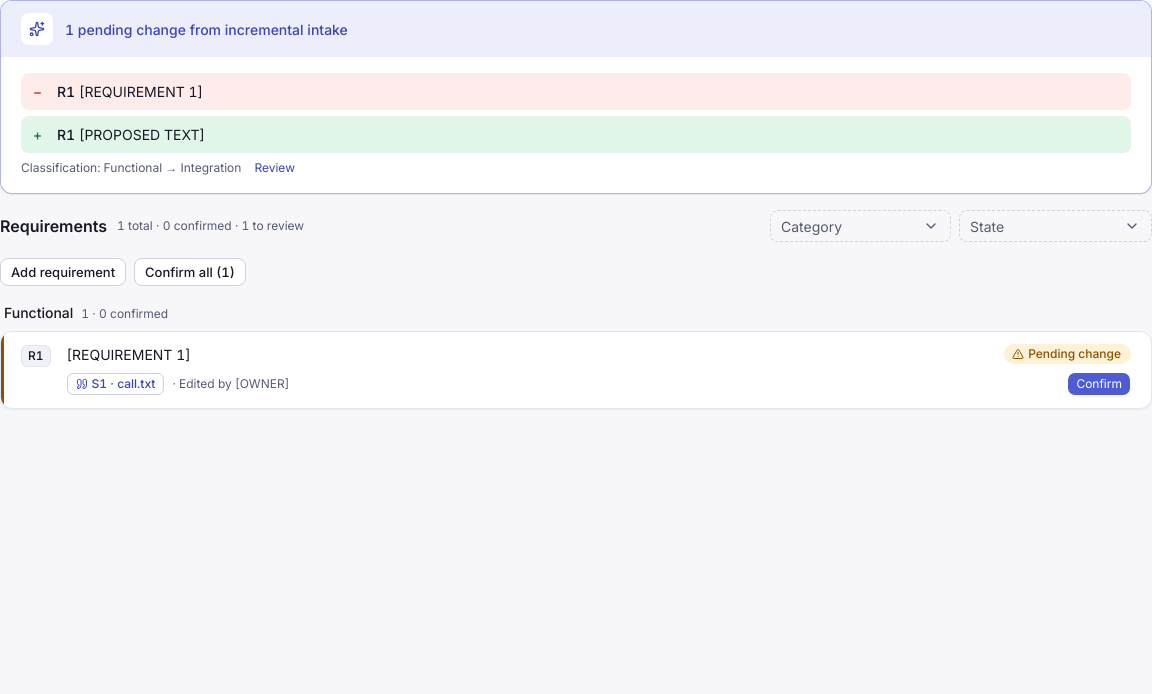
Scenario: a Requirement with a pending change › a 422 from Reject shows the reason under the field
The width and height of the screenshot is (1152, 694).
Click the button "[REQUIREMENT 1]": (129, 354) [67, 344, 988, 365]
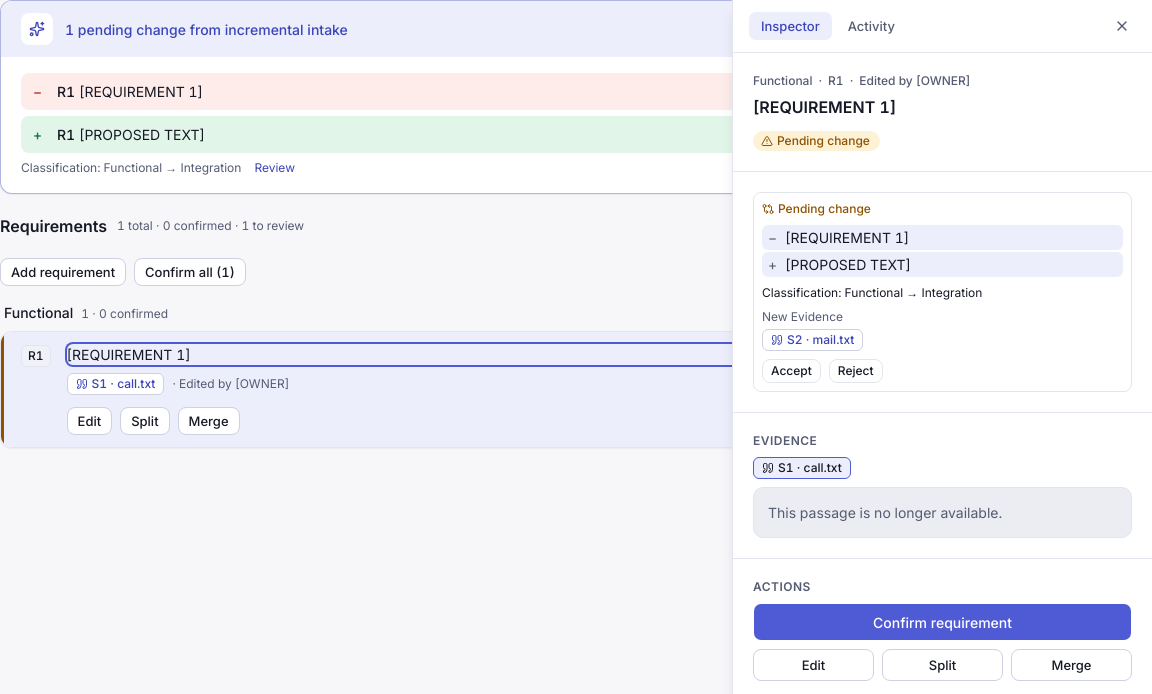
Click the button "Reject": (856, 371) [829, 359, 883, 383]
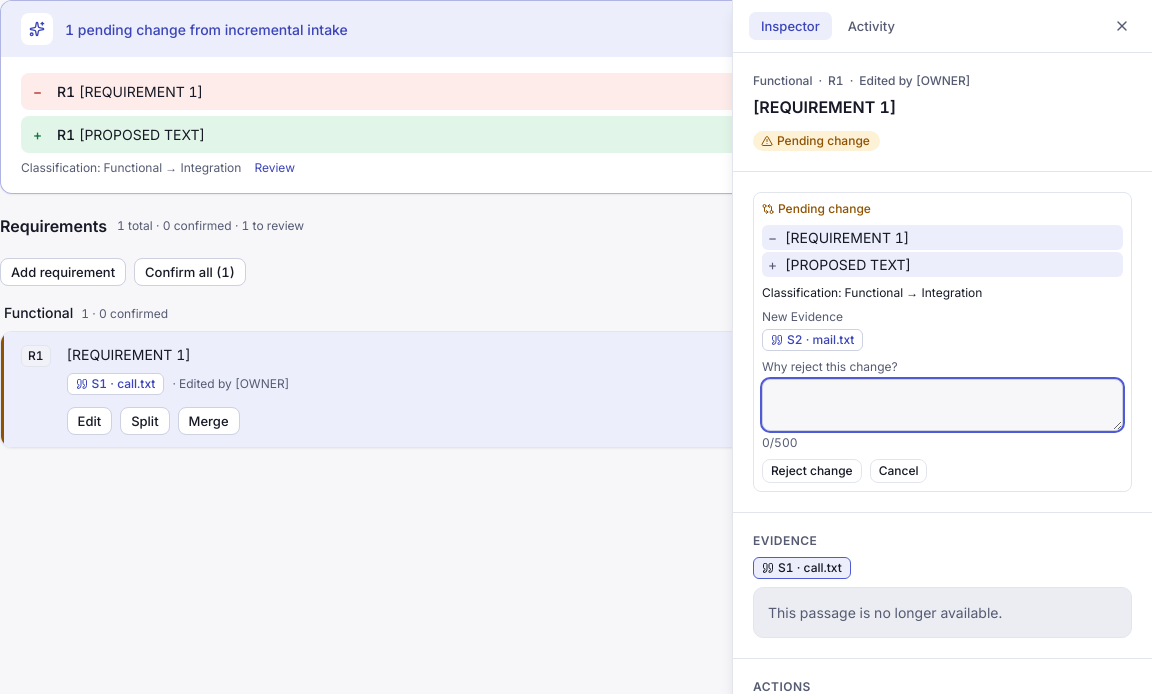
In the text box: (942, 405) [762, 379, 1123, 431], type "Too long, says the API."
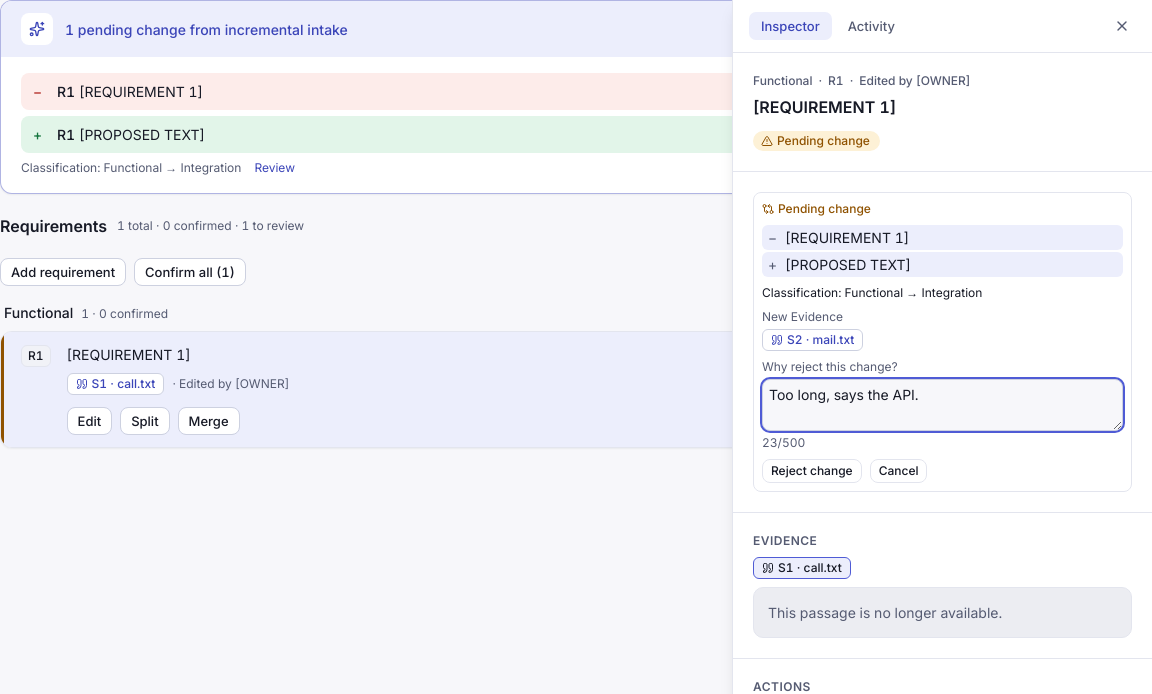
Click the button "Reject change": (812, 471) [762, 459, 862, 483]
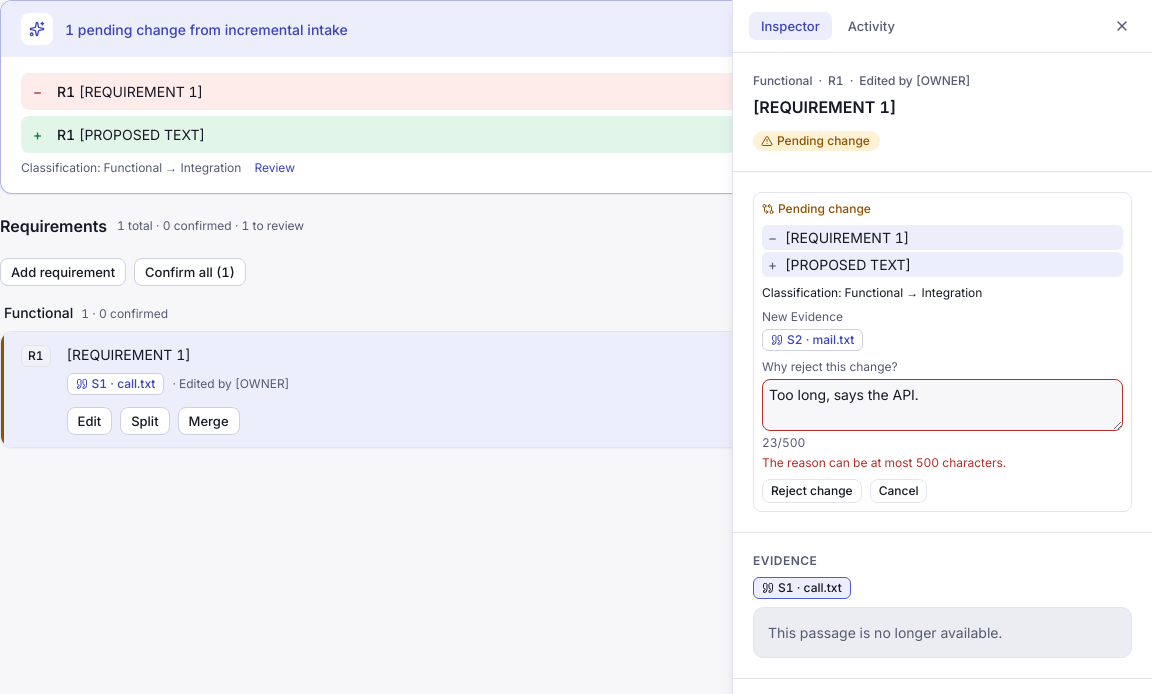
Check: the text "The reason can be at most 500 characters." is shown, box [762, 455, 1006, 470]
